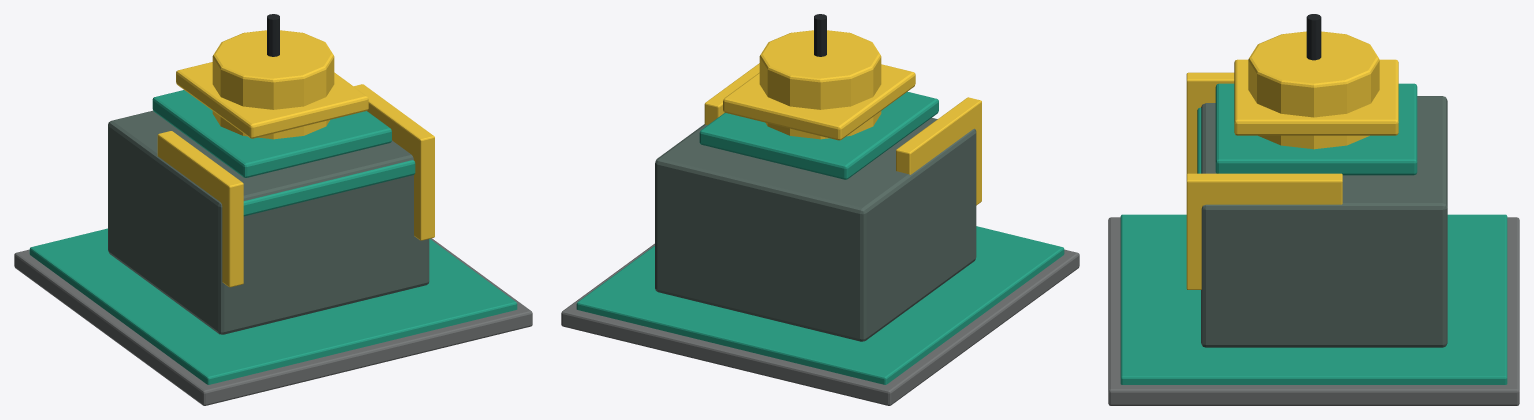
The model's file is SM_Coalition_CO_ConYard.fbx.
The picture shows the model from 3 angles, left to right: view 1: azimuth 30°, elevation 25°; view 2: azimuth 150°, elevation 25°; view 3: azimuth 270°, elevation 25°; orthographic projection. The views are drawn at different scales.
Parts seen in each view (by area): view 1: SM_Coalition_CO_ConYard_MainMass, SM_Coalition_CO_ConYard_FoundationTrim, SM_Coalition_CO_ConYard, SM_Coalition_CO_ConYard_CommandCore, SM_Coalition_CO_ConYard_Roof_1, SM_Coalition_CO_ConYard_Roof_2, SM_Coalition_CO_ConYard_Fin_-1, SM_Coalition_CO_ConYard_Fin_+1, SM_Coalition_CO_ConYard_Roof_0, SM_Coalition_CO_ConYard_Antenna; view 2: SM_Coalition_CO_ConYard_MainMass, SM_Coalition_CO_ConYard_FoundationTrim, SM_Coalition_CO_ConYard, SM_Coalition_CO_ConYard_CommandCore, SM_Coalition_CO_ConYard_Roof_1, SM_Coalition_CO_ConYard_Roof_2, SM_Coalition_CO_ConYard_Fin_-1, SM_Coalition_CO_ConYard_Fin_+1, SM_Coalition_CO_ConYard_Antenna; view 3: SM_Coalition_CO_ConYard_MainMass, SM_Coalition_CO_ConYard_FoundationTrim, SM_Coalition_CO_ConYard, SM_Coalition_CO_ConYard_CommandCore, SM_Coalition_CO_ConYard_Roof_1, SM_Coalition_CO_ConYard_Fin_+1, SM_Coalition_CO_ConYard_Roof_2, SM_Coalition_CO_ConYard_Fin_-1, SM_Coalition_CO_ConYard_Antenna.
Boxes of the visible parts, box(x1,y1,x2,y2) form: SM_Coalition_CO_ConYard_MainMass: box(108, 110, 429, 334); SM_Coalition_CO_ConYard_FoundationTrim: box(29, 228, 517, 384); SM_Coalition_CO_ConYard: box(14, 238, 532, 405); SM_Coalition_CO_ConYard_CommandCore: box(212, 30, 334, 139); SM_Coalition_CO_ConYard_Roof_1: box(152, 90, 391, 177); SM_Coalition_CO_ConYard_Roof_2: box(176, 62, 368, 138); SM_Coalition_CO_ConYard_Fin_-1: box(157, 131, 243, 287); SM_Coalition_CO_ConYard_Fin_+1: box(354, 84, 434, 240); SM_Coalition_CO_ConYard_Roof_0: box(243, 160, 415, 216); SM_Coalition_CO_ConYard_Antenna: box(267, 14, 279, 56); SM_Coalition_CO_ConYard_MainMass: box(655, 118, 976, 341); SM_Coalition_CO_ConYard_FoundationTrim: box(576, 226, 1064, 384); SM_Coalition_CO_ConYard: box(561, 243, 1079, 405); SM_Coalition_CO_ConYard_CommandCore: box(759, 30, 881, 139); SM_Coalition_CO_ConYard_Roof_1: box(699, 91, 938, 179); SM_Coalition_CO_ConYard_Roof_2: box(723, 64, 915, 140); SM_Coalition_CO_ConYard_Fin_-1: box(896, 97, 981, 205); SM_Coalition_CO_ConYard_Fin_+1: box(704, 63, 759, 124); SM_Coalition_CO_ConYard_Antenna: box(814, 14, 826, 56); SM_Coalition_CO_ConYard_MainMass: box(1201, 96, 1447, 347); SM_Coalition_CO_ConYard_FoundationTrim: box(1120, 214, 1507, 384); SM_Coalition_CO_ConYard: box(1108, 217, 1519, 405); SM_Coalition_CO_ConYard_CommandCore: box(1248, 31, 1379, 149); SM_Coalition_CO_ConYard_Roof_1: box(1215, 83, 1417, 175); SM_Coalition_CO_ConYard_Fin_+1: box(1186, 173, 1342, 289); SM_Coalition_CO_ConYard_Roof_2: box(1234, 59, 1398, 135); SM_Coalition_CO_ConYard_Fin_-1: box(1186, 72, 1234, 173); SM_Coalition_CO_ConYard_Antenna: box(1306, 14, 1321, 60).
Size of what is drawn, in the model's own units: 800 by 800 by 651.
